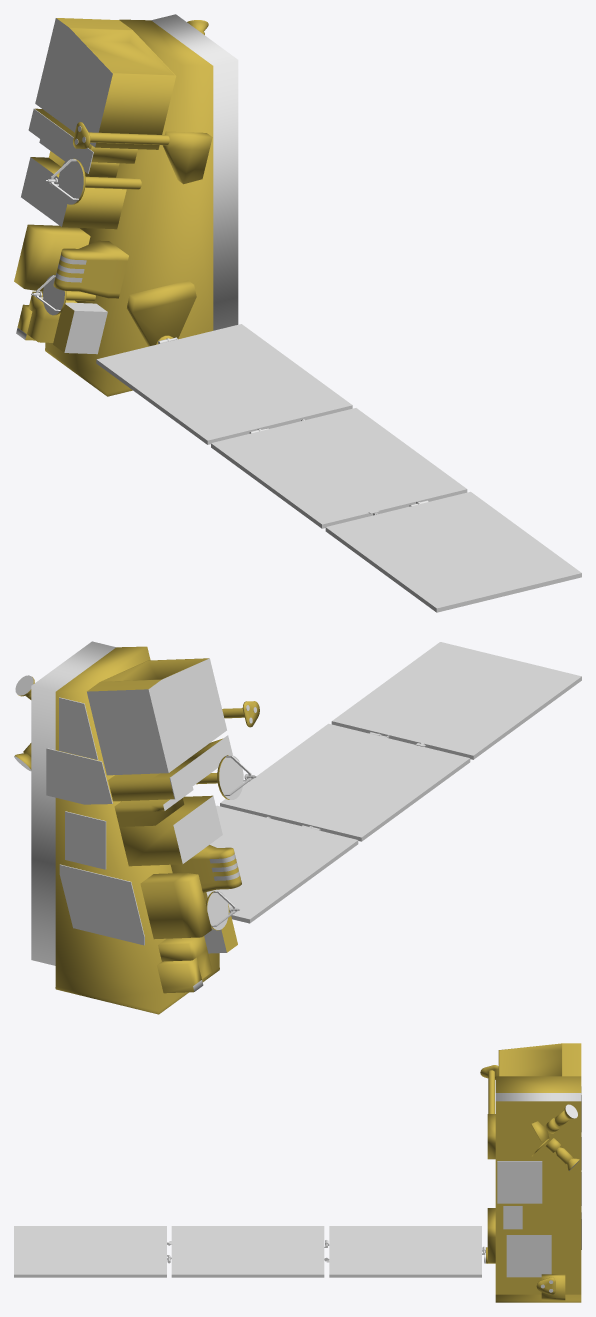
The model's file is NPP_16.fbx.
3 views of the same model, one above another, from view 1: azimuth 30°, elevation 25°; view 2: azimuth 150°, elevation 25°; view 3: azimuth 270°, elevation 25° (orthographic). The views are drawn at different scales.
Visible parts, largest first — view 1: NPP; view 2: NPP; view 3: NPP.
Part boxes in pixels (<box>): NPP: <box>14,14,581,612</box>; NPP: <box>14,641,581,1014</box>; NPP: <box>14,1043,581,1302</box>.
Bounding box in the file's own units: 257 × 418 × 896.
